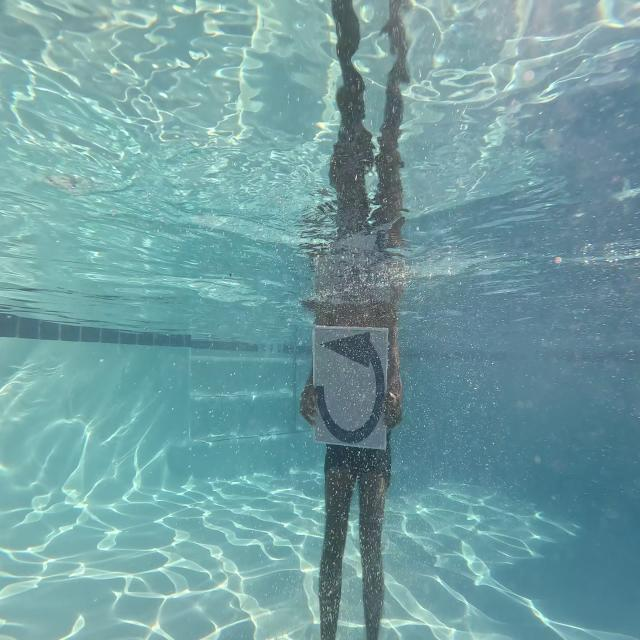blue_side: (313, 325, 389, 450)
